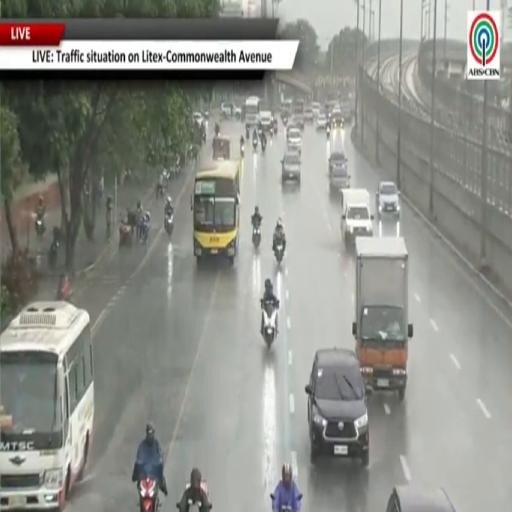bus: (0, 301, 94, 510), (191, 160, 242, 264), (245, 96, 260, 126)
car: (305, 347, 371, 467), (386, 485, 456, 511), (376, 182, 400, 216), (282, 151, 300, 184), (286, 126, 302, 152), (221, 102, 241, 120), (259, 111, 273, 132), (331, 111, 344, 129), (316, 113, 328, 130), (294, 114, 305, 130), (304, 107, 314, 122), (312, 103, 321, 117), (193, 112, 203, 124)
motorcycle: (261, 300, 279, 347), (138, 477, 158, 511), (48, 227, 61, 270), (56, 274, 72, 301), (48, 239, 59, 270), (274, 240, 284, 264), (140, 218, 149, 244), (35, 216, 45, 238), (164, 212, 173, 236), (106, 206, 112, 241), (252, 224, 260, 248), (188, 500, 203, 511), (280, 504, 293, 511), (214, 124, 220, 136), (261, 139, 266, 152), (252, 137, 257, 150), (326, 125, 330, 139), (246, 125, 250, 139), (273, 123, 278, 134), (258, 126, 263, 137), (240, 144, 244, 157), (204, 110, 209, 119), (202, 131, 206, 142), (283, 117, 287, 125)
tricycle: (119, 212, 136, 248)
truck: (352, 237, 413, 399), (341, 188, 374, 244)
